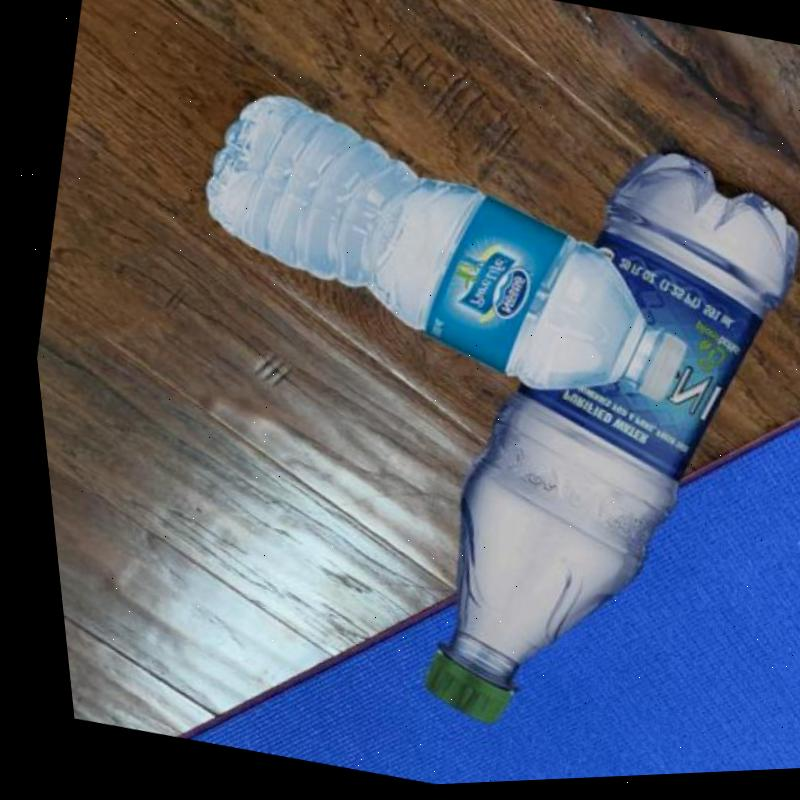botella: (360, 114, 800, 783), (160, 66, 723, 438)
